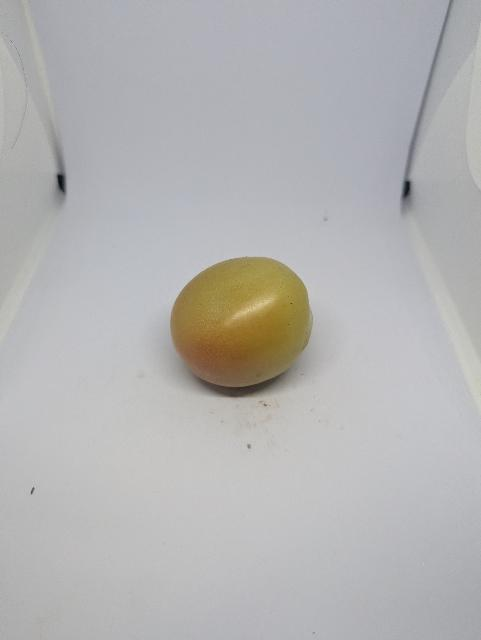breaker: (166, 255, 317, 391)
